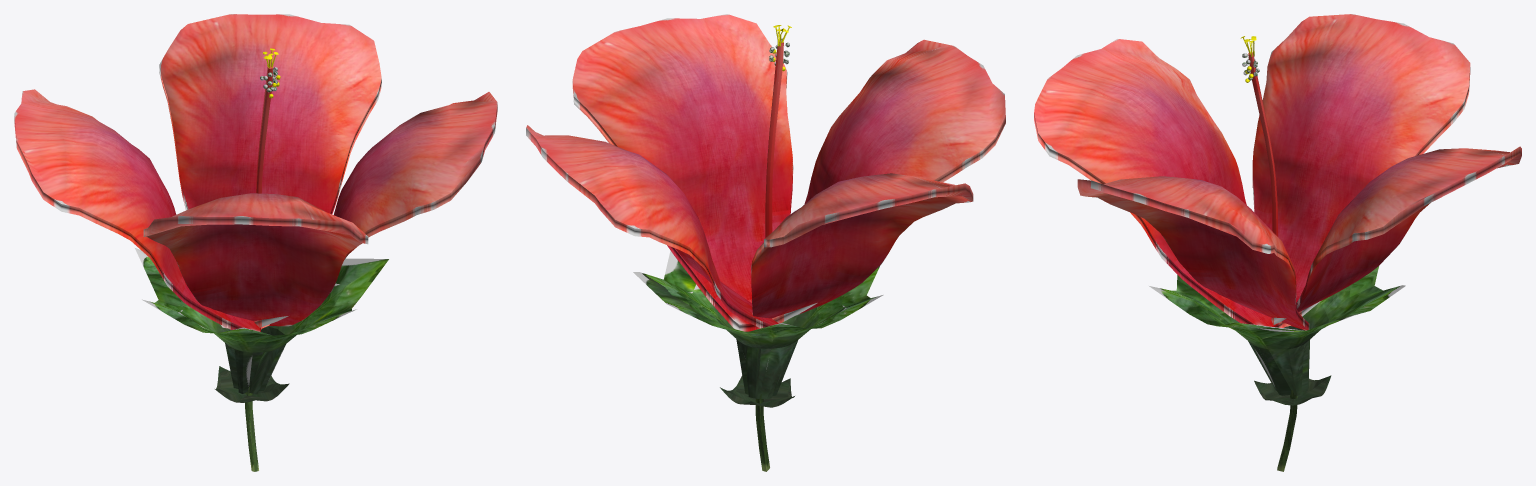
The model's file is hibiscus.fbx.
3 renders of one model, left to right at view 1: azimuth 30°, elevation 25°; view 2: azimuth 150°, elevation 25°; view 3: azimuth 270°, elevation 25°, orthographic.
Visible parts, largest first — view 1: pCube14; view 2: pCube14; view 3: pCube14.
Boxes of the visible parts, bbox=[...] form: pCube14: bbox=[14, 14, 497, 471]; pCube14: bbox=[526, 14, 1005, 471]; pCube14: bbox=[1034, 14, 1521, 471].
Bounding box in the file's own units: 37.5 × 36.58 × 37.26.
6 materials, 5 textured.
